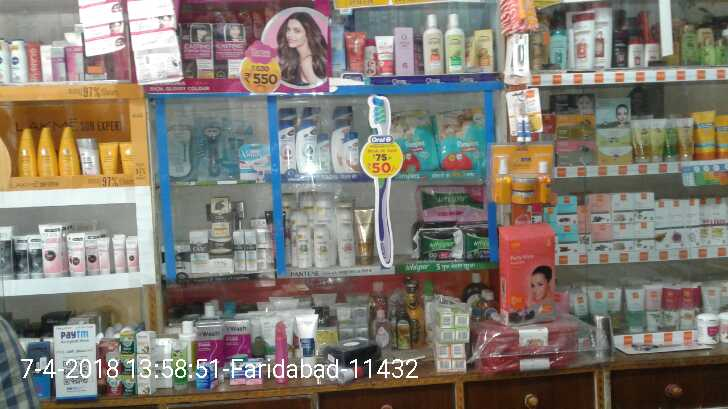venus: (193, 118, 230, 180), (239, 143, 271, 180)
